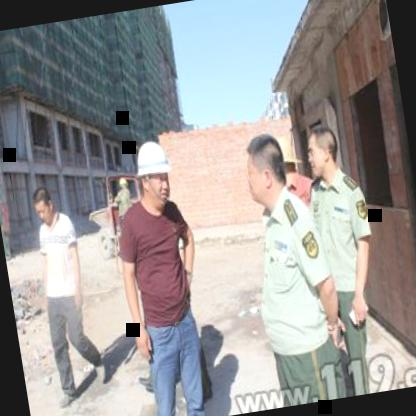helmet: (130, 134, 177, 209), (117, 176, 128, 192)
